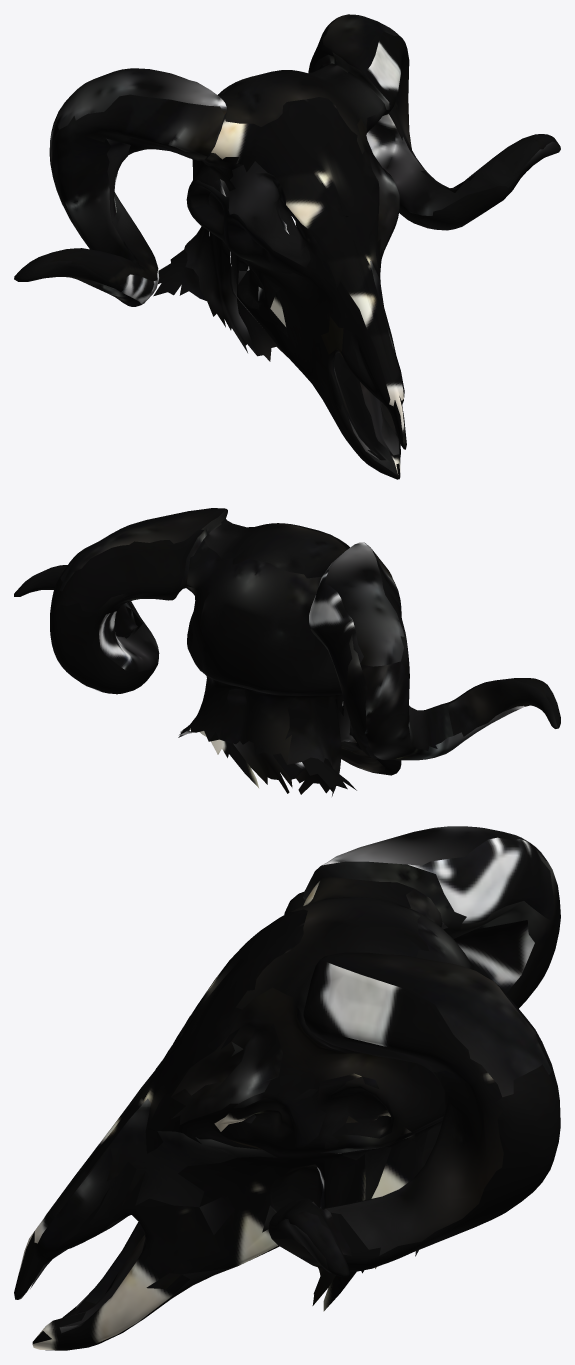
Rendered from HeadReaperpivot.fbx.
The picture shows the model from 3 angles, top to bottom: view 1: azimuth 30°, elevation 25°; view 2: azimuth 150°, elevation 25°; view 3: azimuth 270°, elevation 25°; orthographic projection. The views are drawn at different scales.
Visible parts, largest first — view 1: Head; view 2: Head; view 3: Head.
Boxes of the visible parts, x1=… form: Head: x1=14, y1=14, x2=560, y2=479; Head: x1=14, y1=508, x2=560, y2=796; Head: x1=14, y1=826, x2=560, y2=1350.
Bounding box in the file's own units: 39.49 × 22.15 × 24.78.
